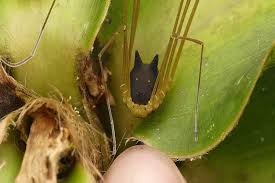Lobo: (117, 49, 171, 108)
